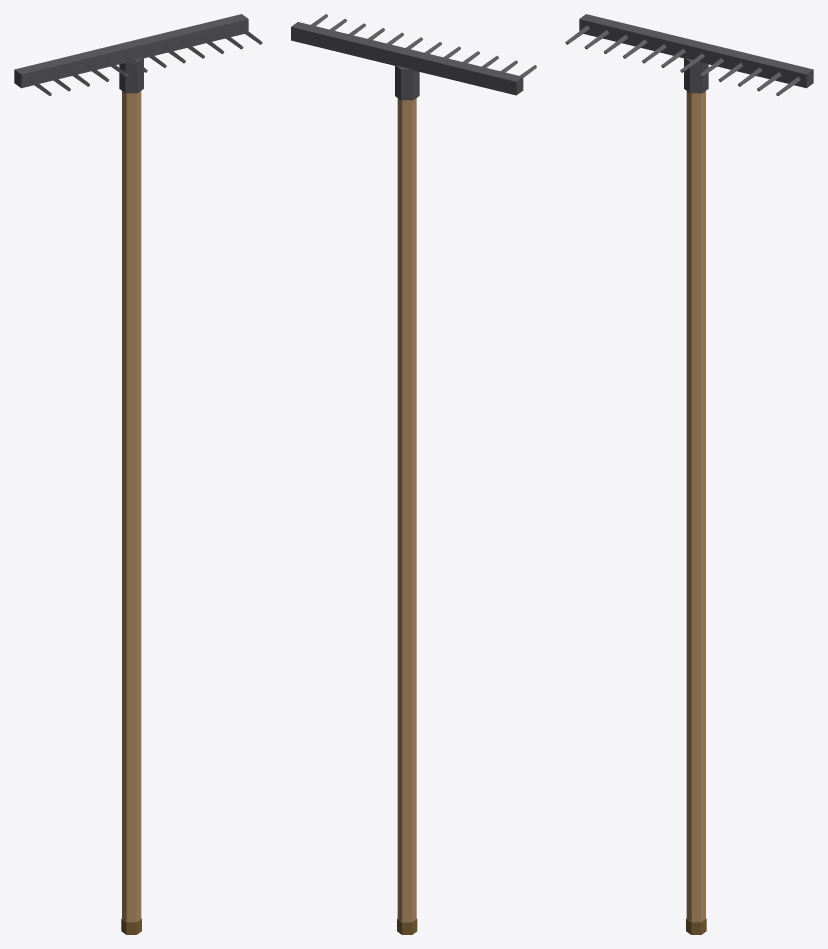
File: rake.glb
The picture shows the model from 3 angles, left to right: view 1: azimuth 30°, elevation 25°; view 2: azimuth 150°, elevation 25°; view 3: azimuth 330°, elevation 25°; orthographic projection.
Visible parts, largest first — view 1: rake; view 2: rake; view 3: rake.
Boxes of the visible parts, box(x1,y1,x2,y2) form: rake: box(14, 14, 262, 934); rake: box(291, 14, 536, 934); rake: box(565, 14, 813, 934).
Bounding box in the file's own units: 0.38 × 1.42 × 0.091.
